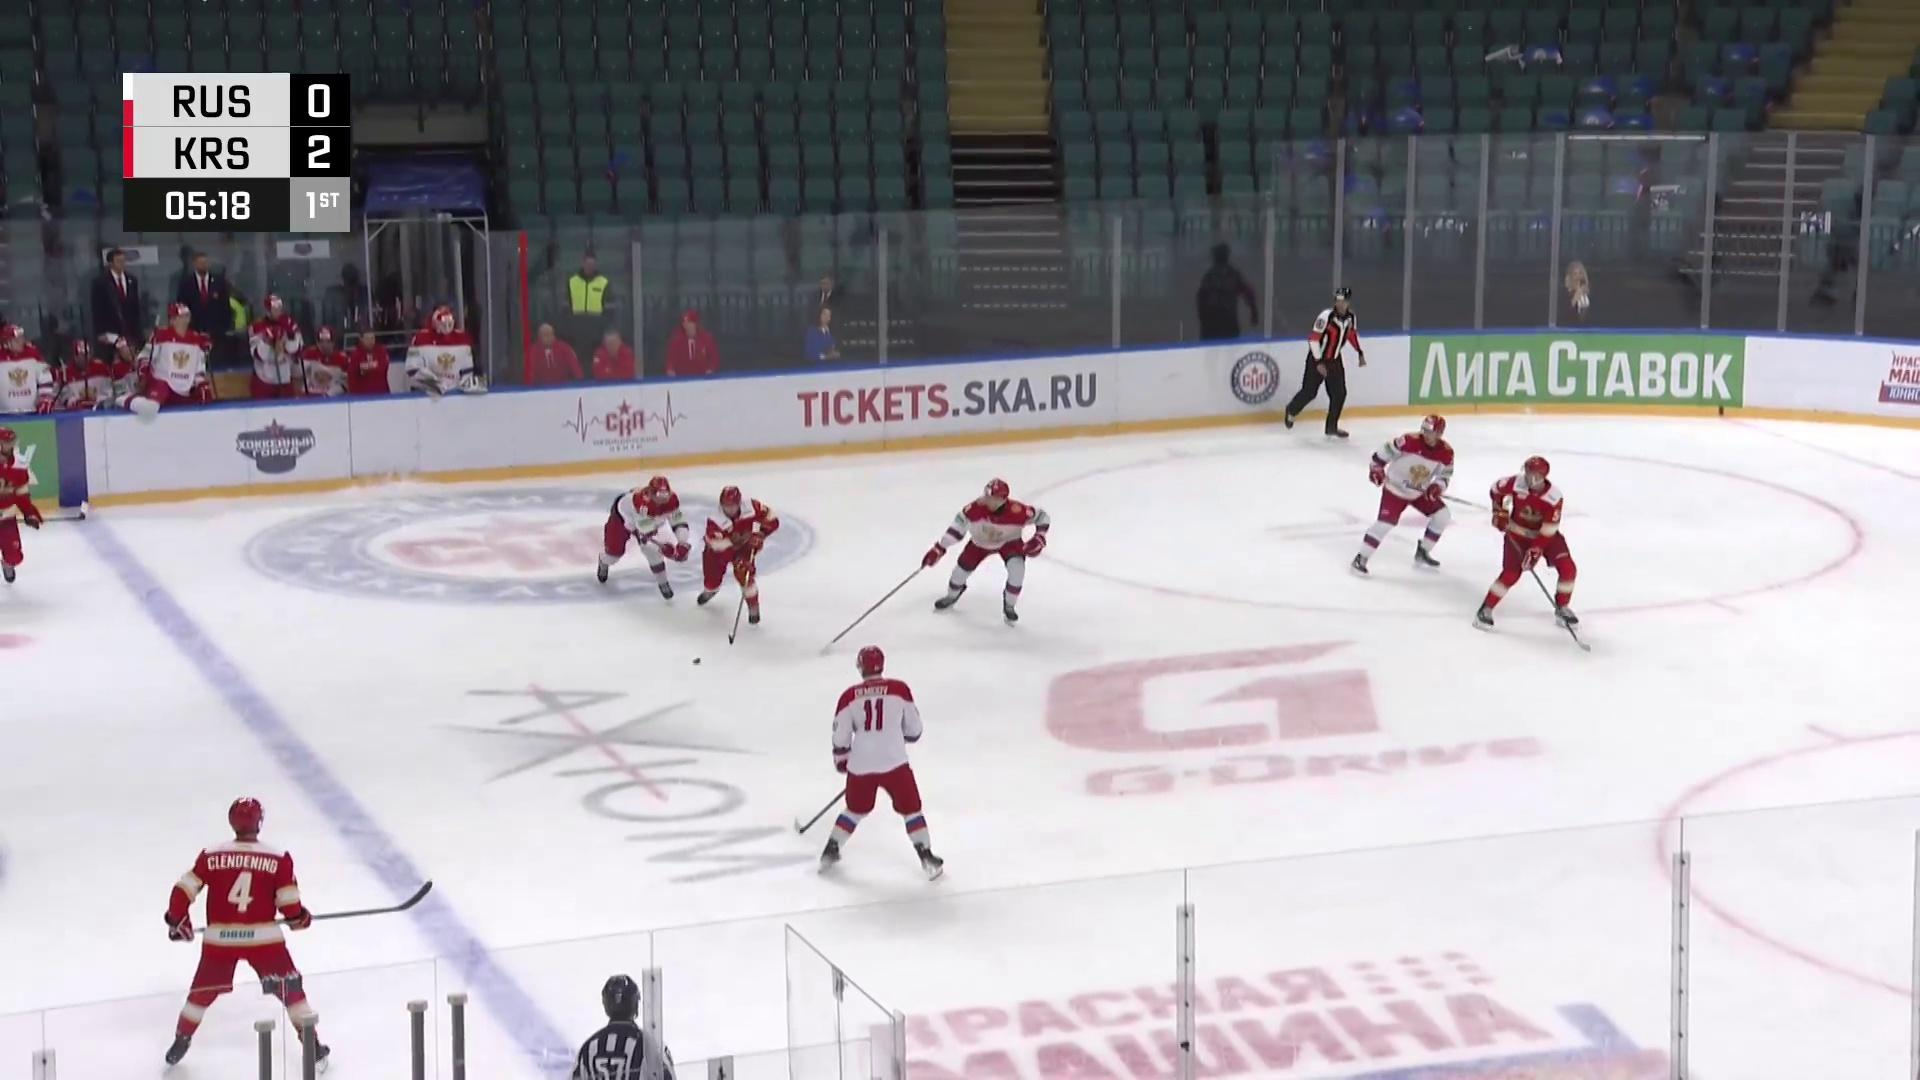ball: (687, 655, 705, 667)
